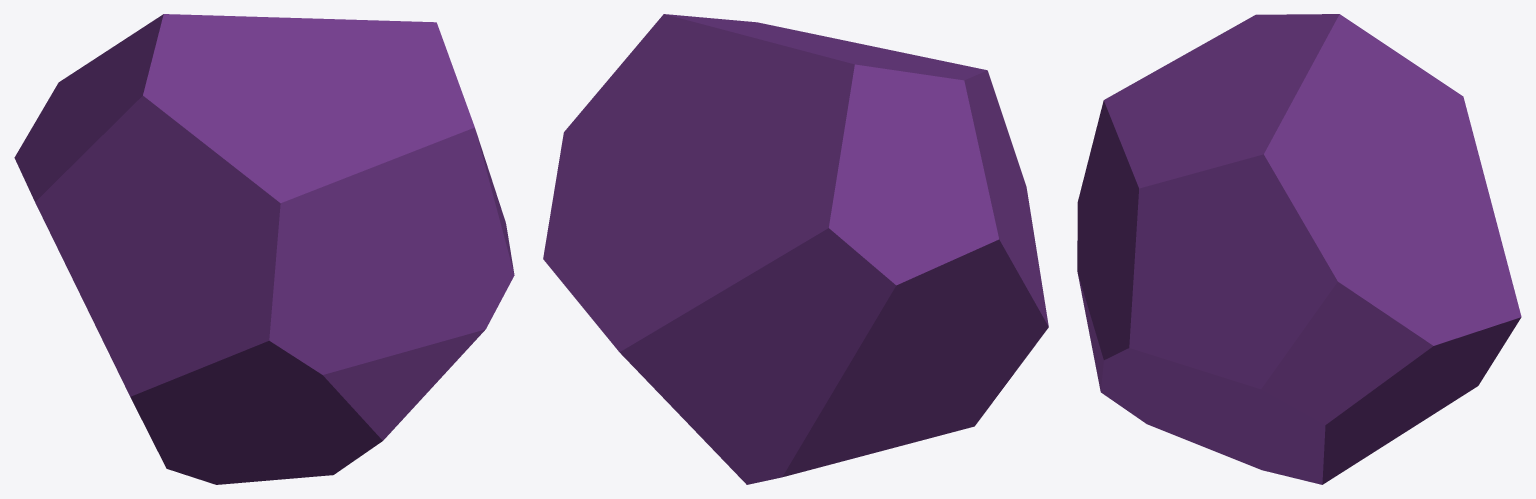
Rendered from CaveRock3.fbx.
3 renders of one model, left to right at view 1: azimuth 30°, elevation 25°; view 2: azimuth 150°, elevation 25°; view 3: azimuth 270°, elevation 25°, orthographic. The views are drawn at different scales.
Parts seen in each view (by area): view 1: Sphere; view 2: Sphere; view 3: Sphere.
Part boxes in pixels (x1,y1,x2,y2): Sphere: (14, 14, 514, 484); Sphere: (543, 14, 1048, 484); Sphere: (1077, 14, 1521, 484).
Bounding box in the file's own units: 182 × 178 × 170.
